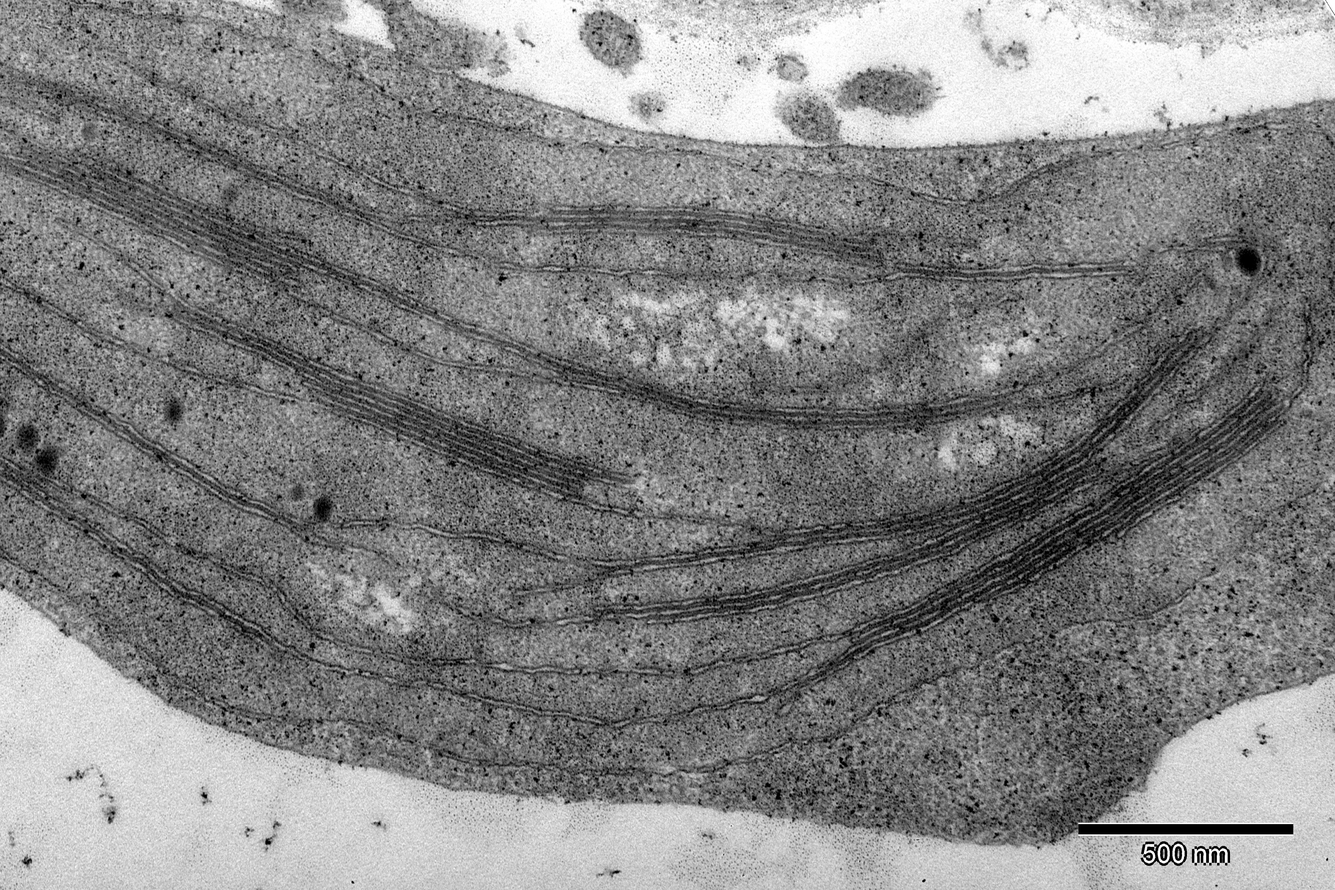granum: (645, 320, 1213, 629), (845, 372, 1297, 664), (166, 293, 599, 509), (0, 109, 316, 303), (551, 353, 1015, 434), (524, 199, 880, 272), (0, 448, 77, 522), (0, 56, 80, 126)
